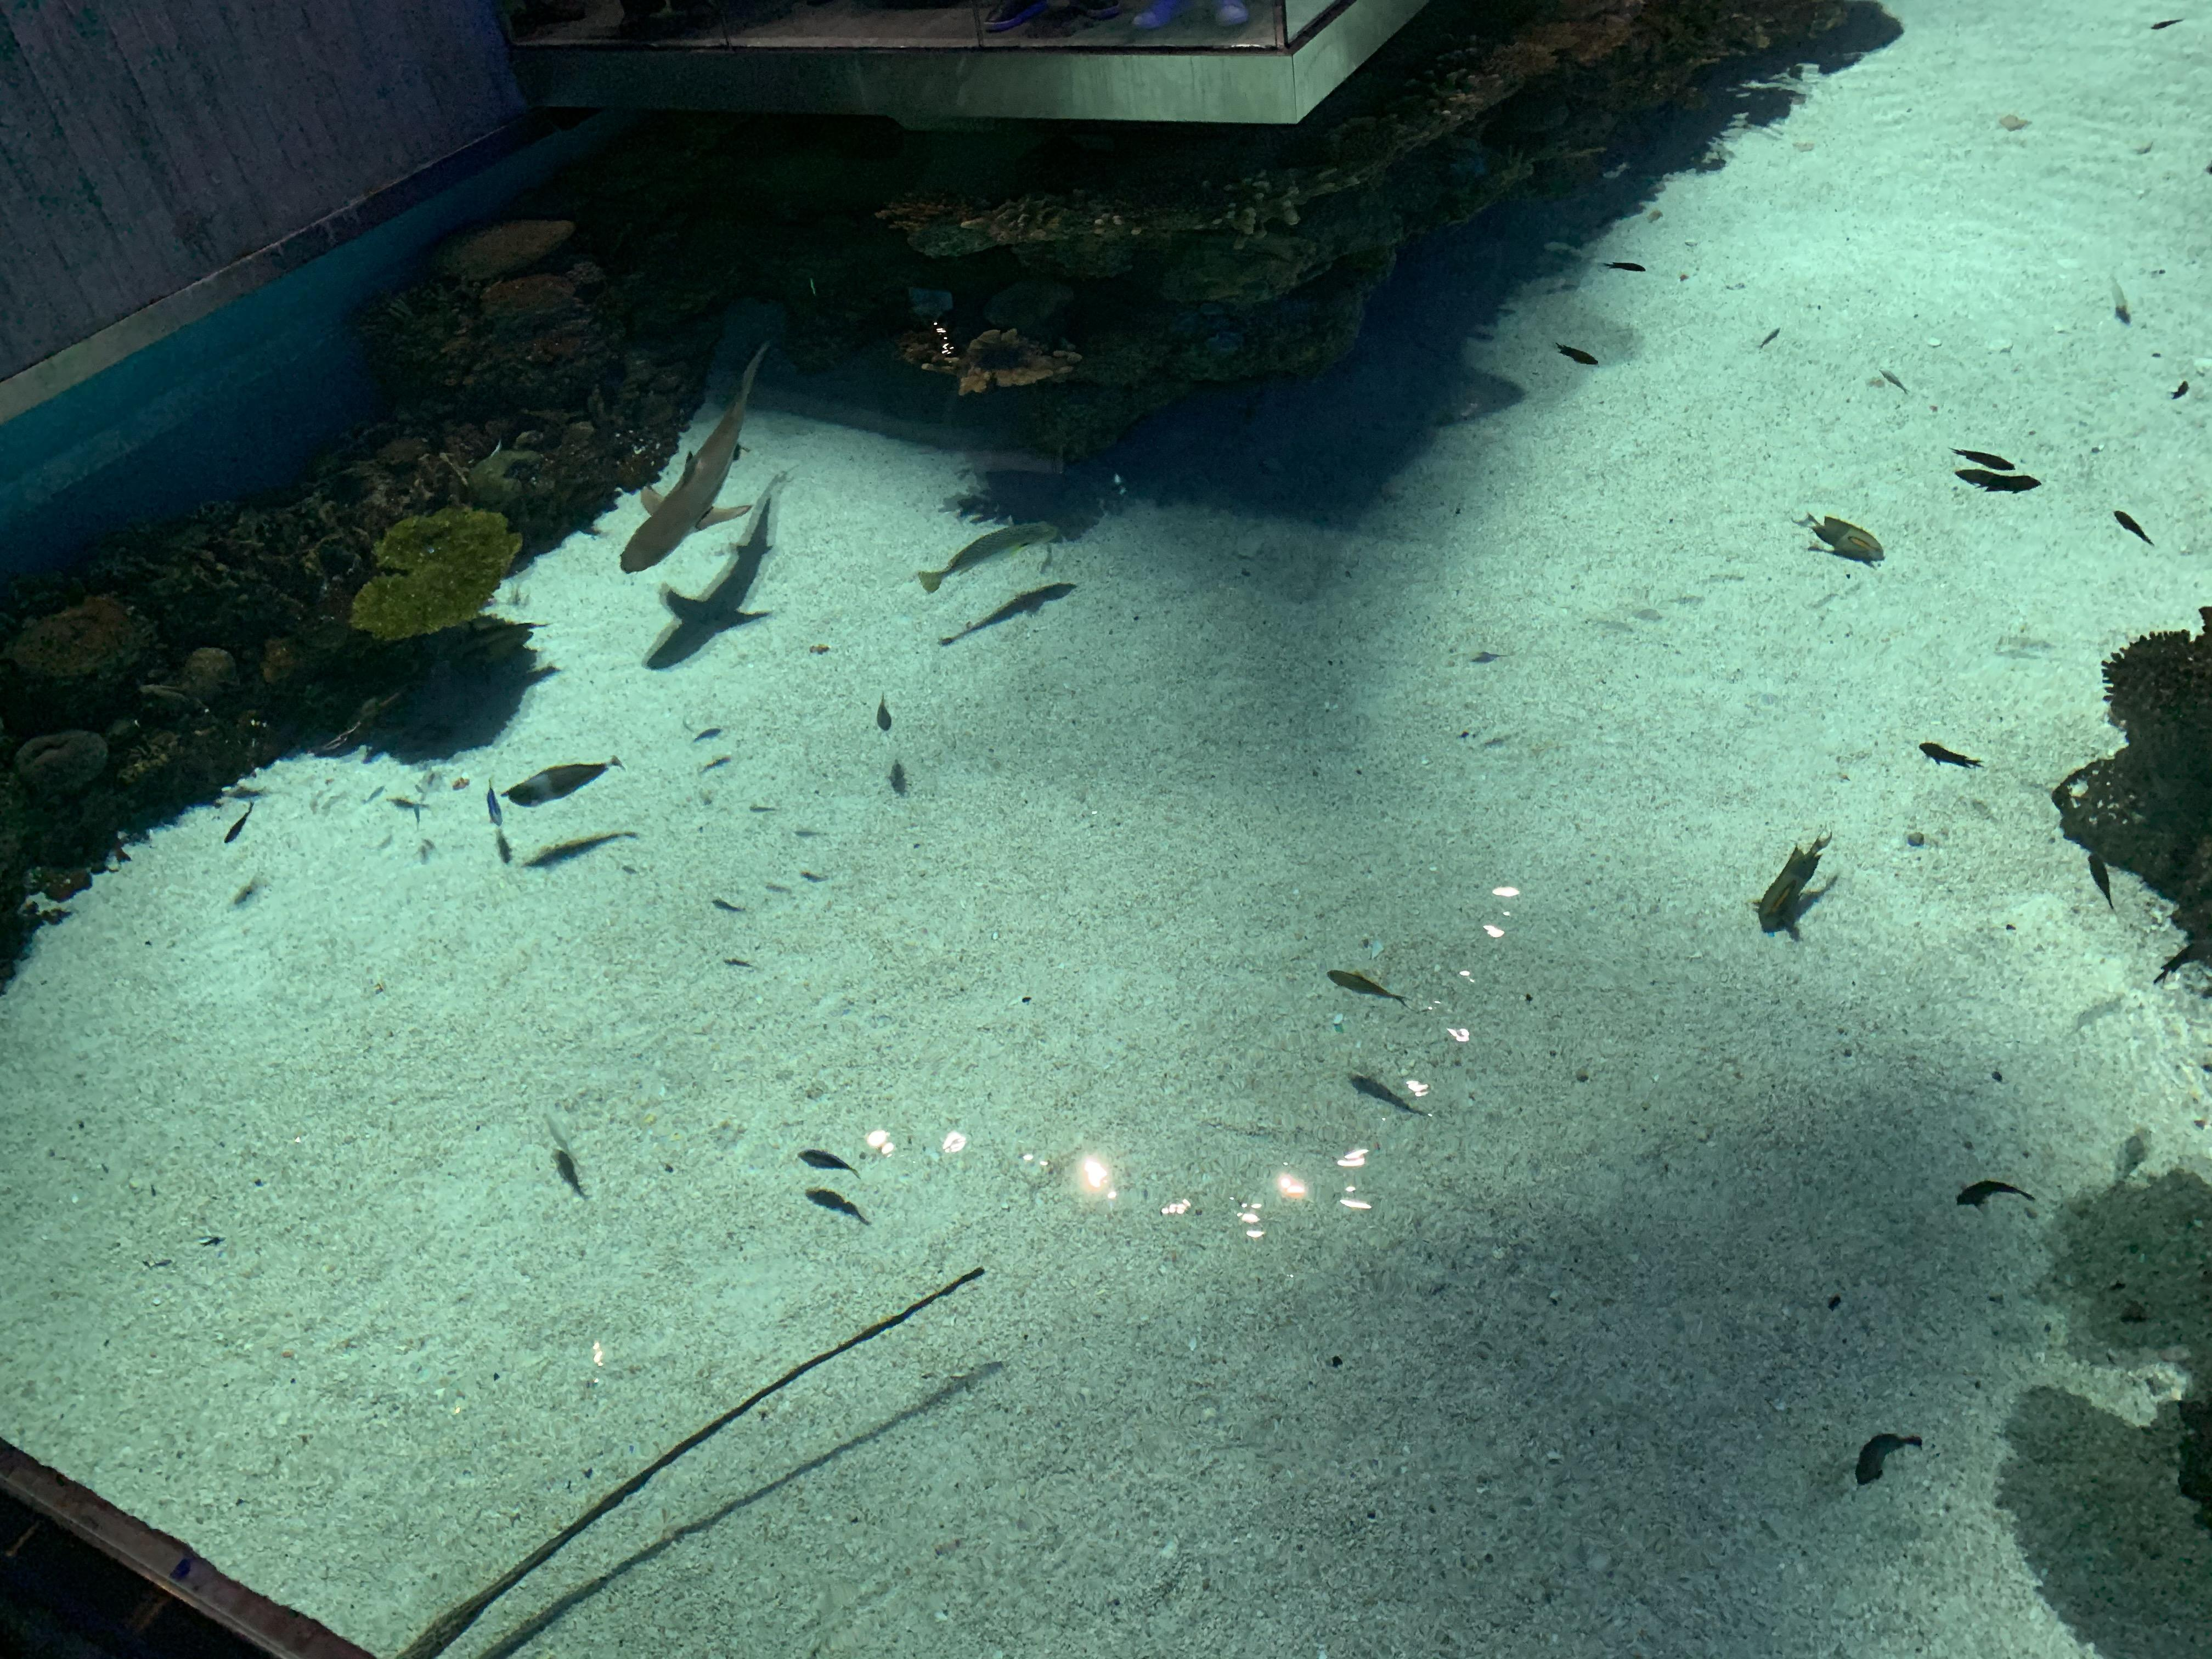fish: (913, 516, 1062, 596), (1752, 829, 1838, 940), (499, 755, 624, 809), (1849, 1423, 1927, 1493), (1796, 510, 1886, 565), (1327, 959, 1408, 1012), (1955, 1171, 2040, 1217), (1950, 438, 2018, 477), (1915, 735, 1980, 775), (797, 1142, 857, 1185), (551, 1141, 588, 1202), (221, 801, 264, 847), (2113, 507, 2154, 551), (2084, 842, 2115, 897), (1554, 338, 1602, 370), (872, 691, 896, 738), (1603, 255, 1649, 278), (2108, 276, 2130, 323)
shark: (618, 338, 783, 577)
